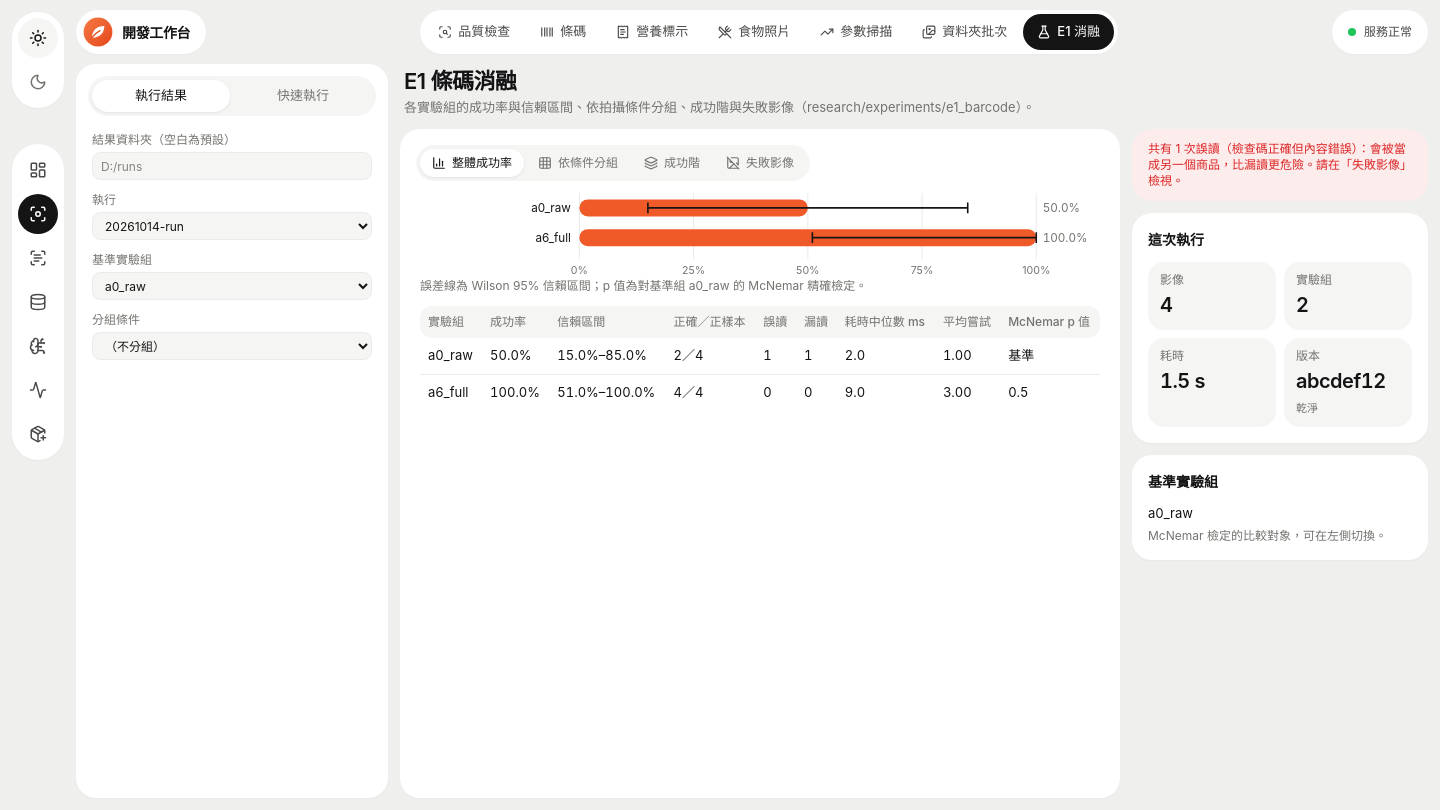
Test case: E1 頁 › 快速執行回報進度，完成後切換到新的執行；中途失敗時顯示錯誤
Check: the picture named "整體成功率長條圖" is shown, box 420,193 -> 1100,278
Click the tab "快速執行" at (303, 96), box 234,80 -> 372,112
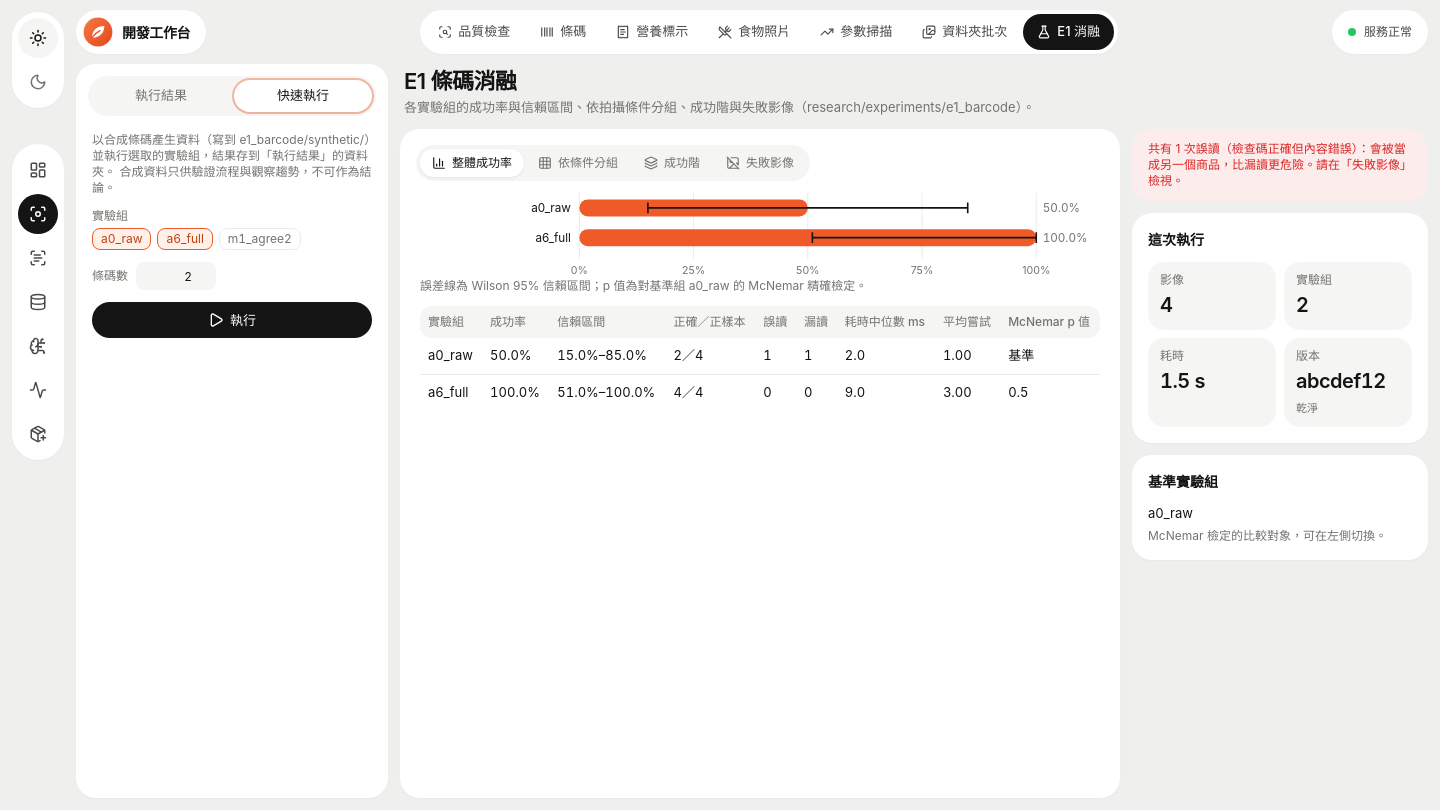
Click the button "執行" at (232, 320), box 92,302 -> 372,338
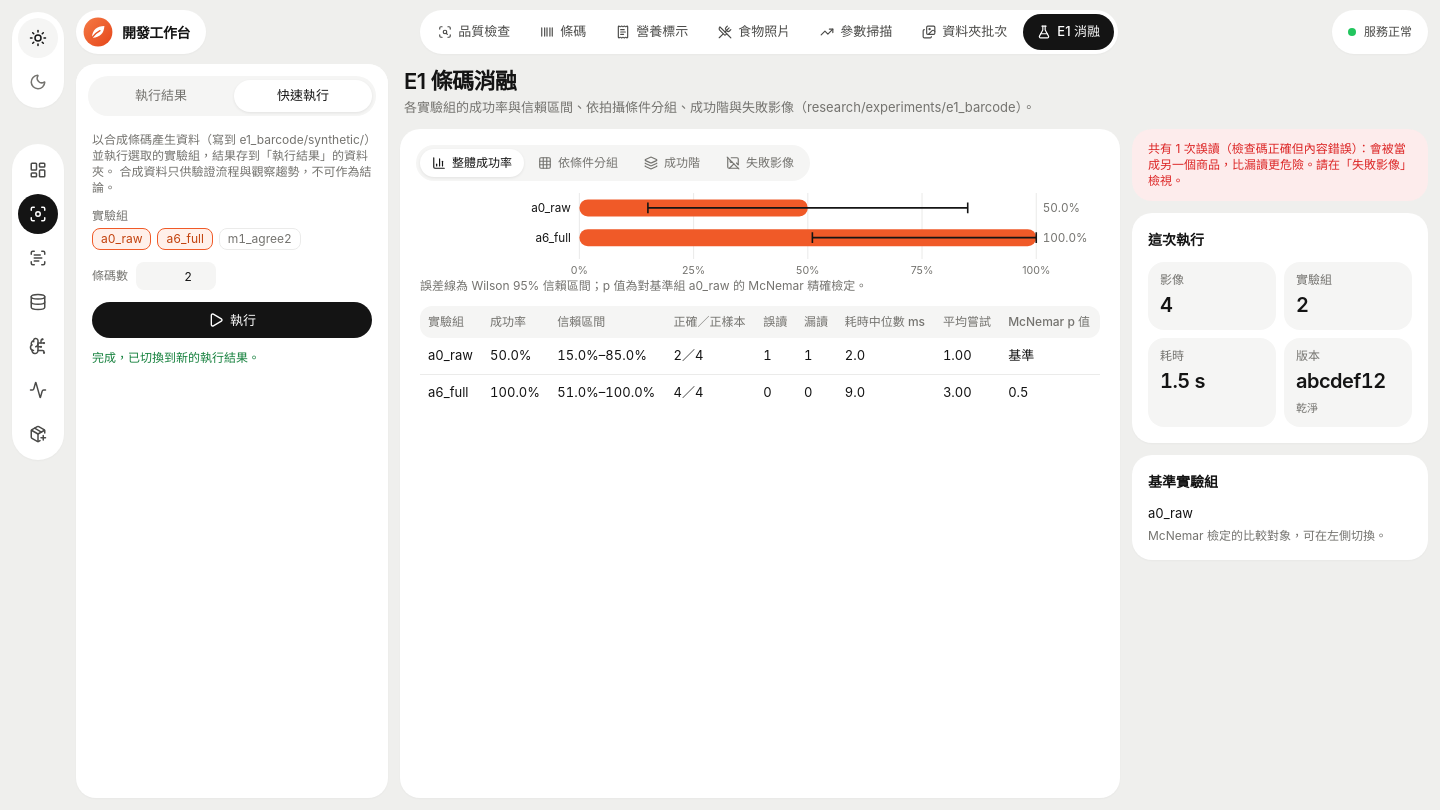
Check: the text "完成，已切換到新的執行結果。" is shown, box 92,350 -> 260,365
Click the button "m1_agree2" at (260, 239), box 219,228 -> 301,250
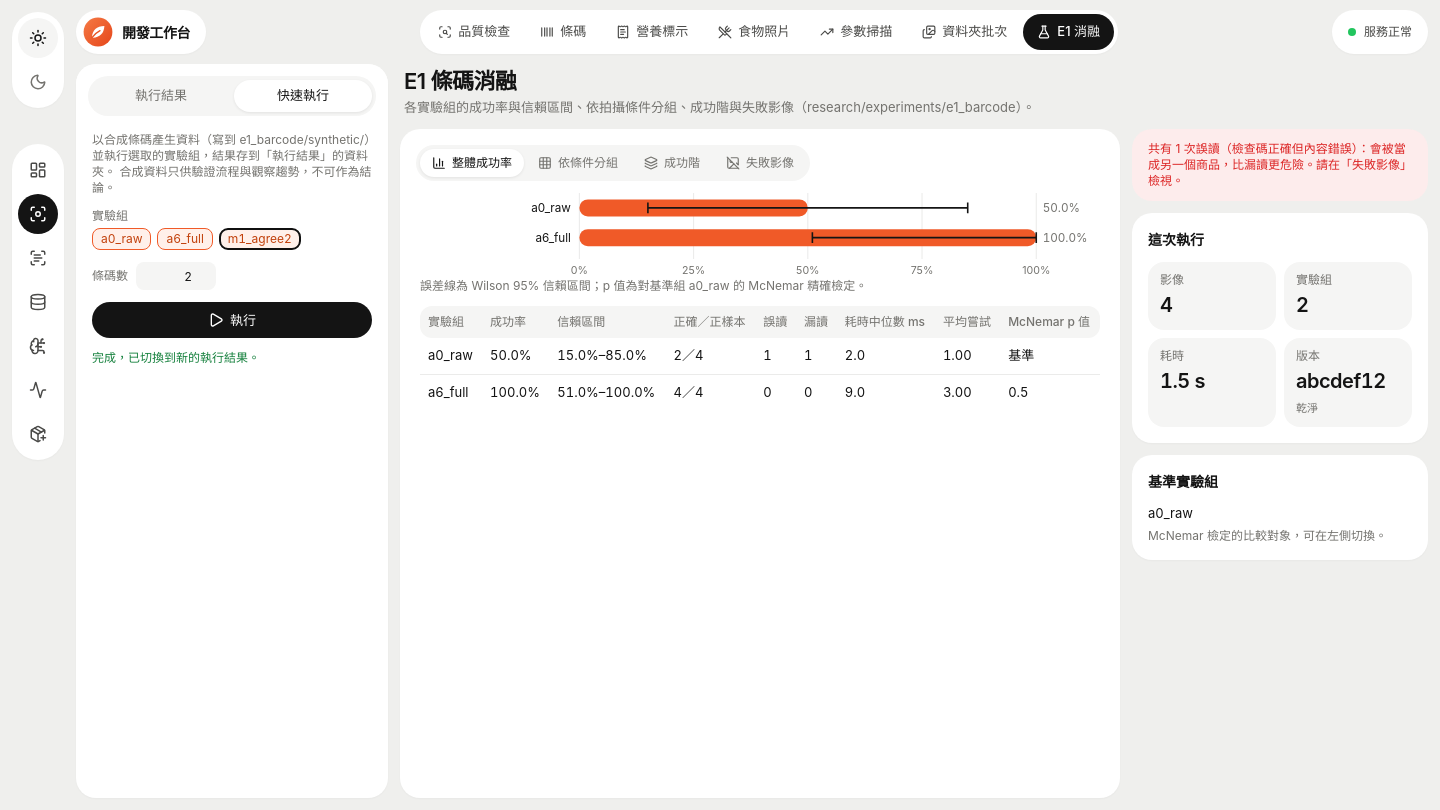
Click the button "執行" at (232, 320), box 92,302 -> 372,338
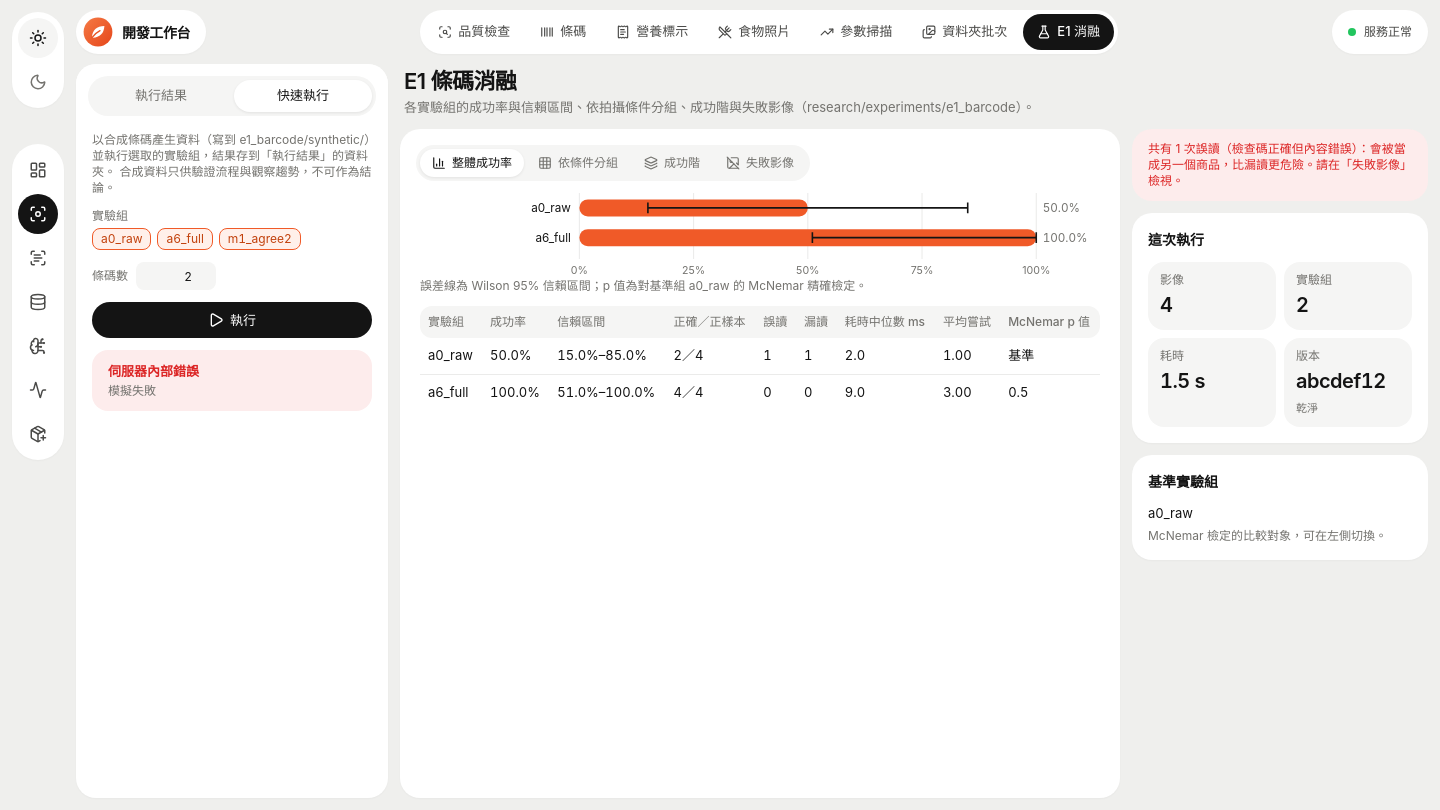
Note: 條碼數可暫時清空（不會立刻變成 1），失焦後恢復成目前值
Clear the number field labelled "條碼數" at (176, 276), box 136,262 -> 216,290
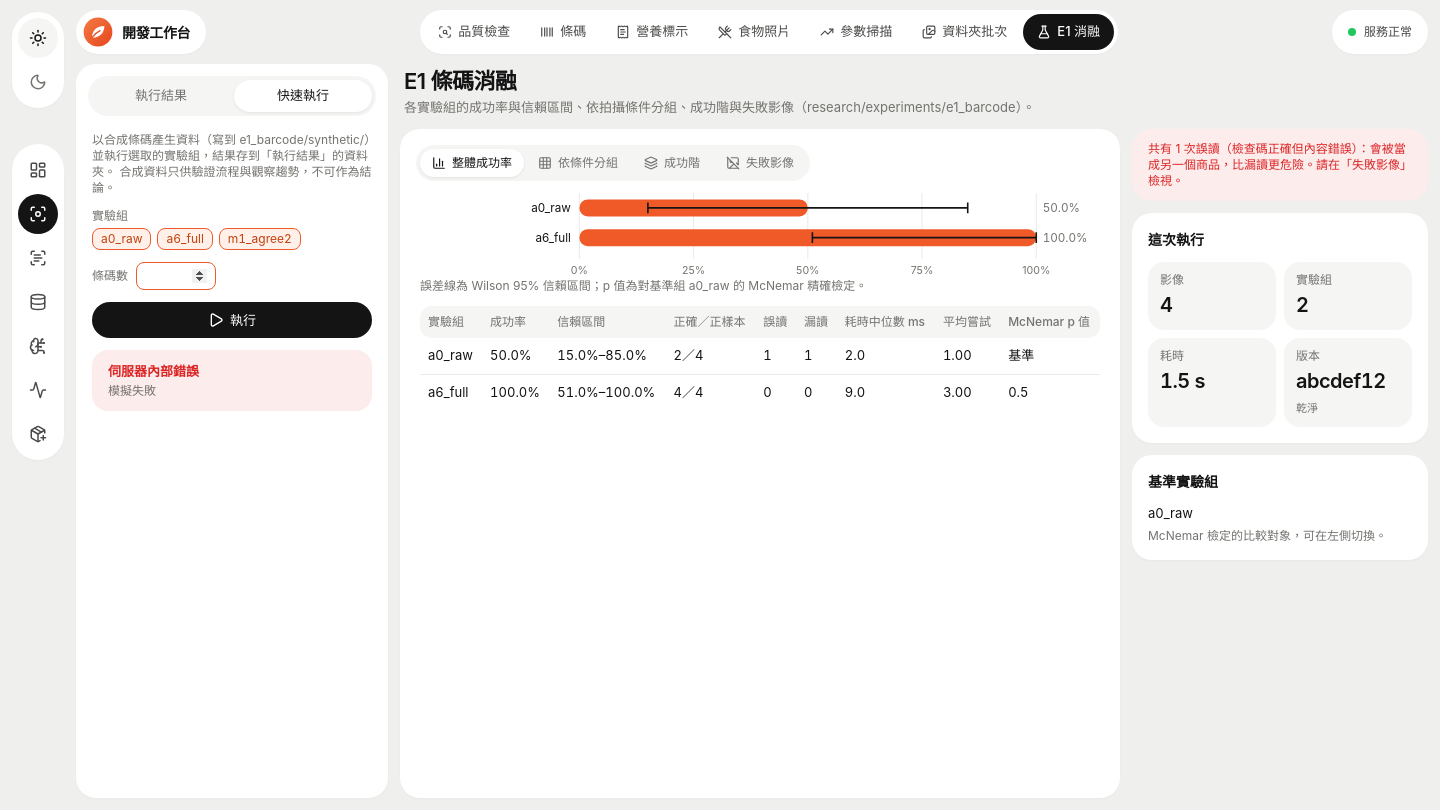
Press Tab
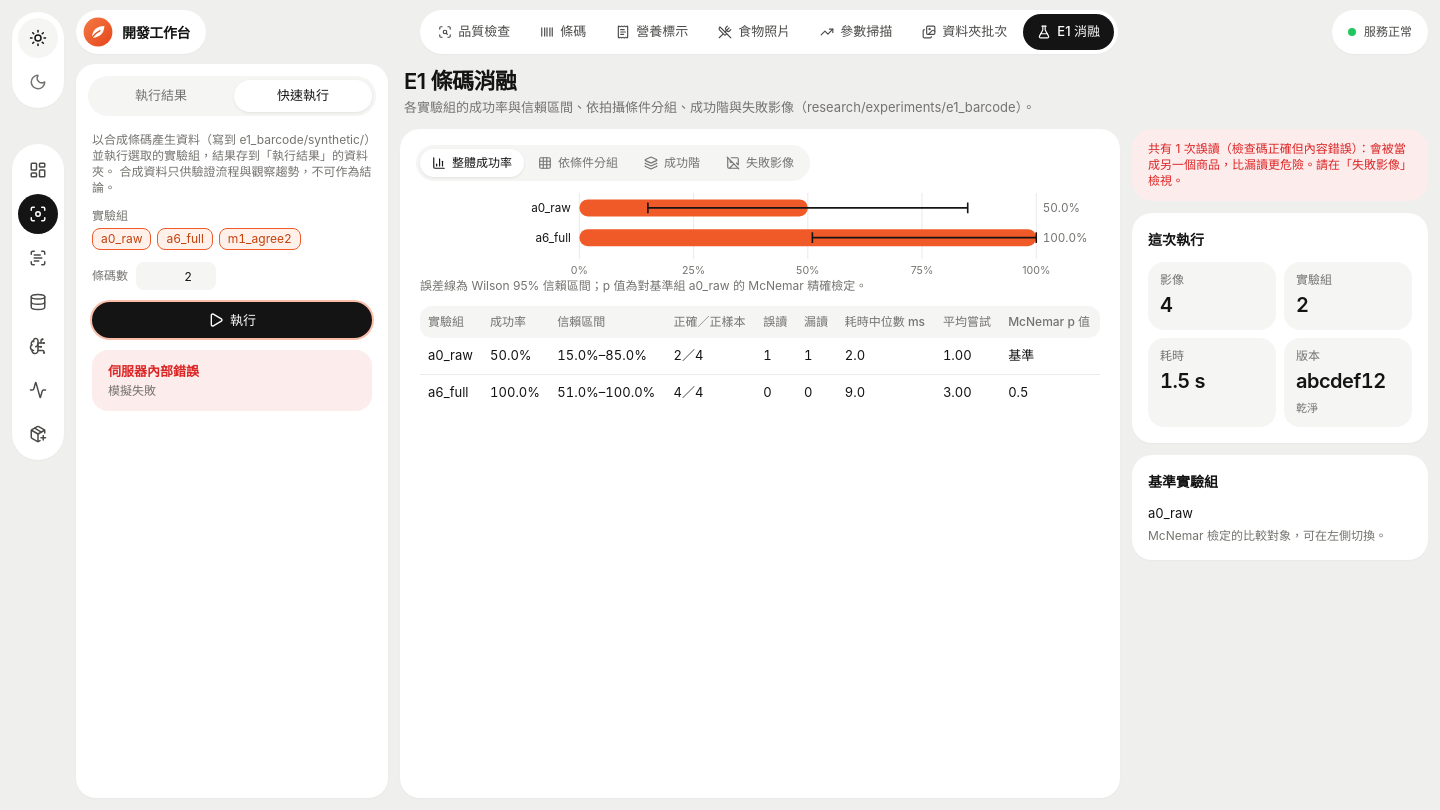
Check: the number field labelled "條碼數" holds "2", box 136,262 -> 216,290
